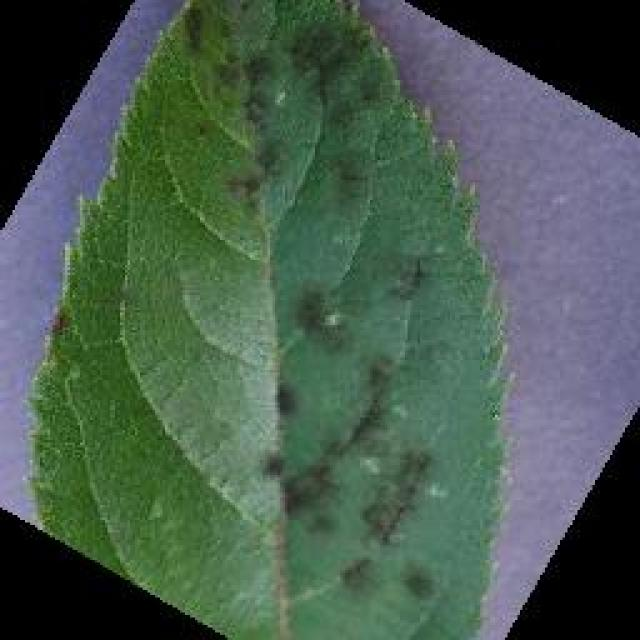apple scab disease: (22, 0, 520, 638)
